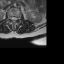CCS_normal: (12, 14, 15, 23)
LFS_normal: (17, 15, 19, 20)
LLS_normal: (15, 14, 17, 22)
RFS_normal: (8, 14, 10, 20)
RLS_normal: (10, 15, 12, 22)
